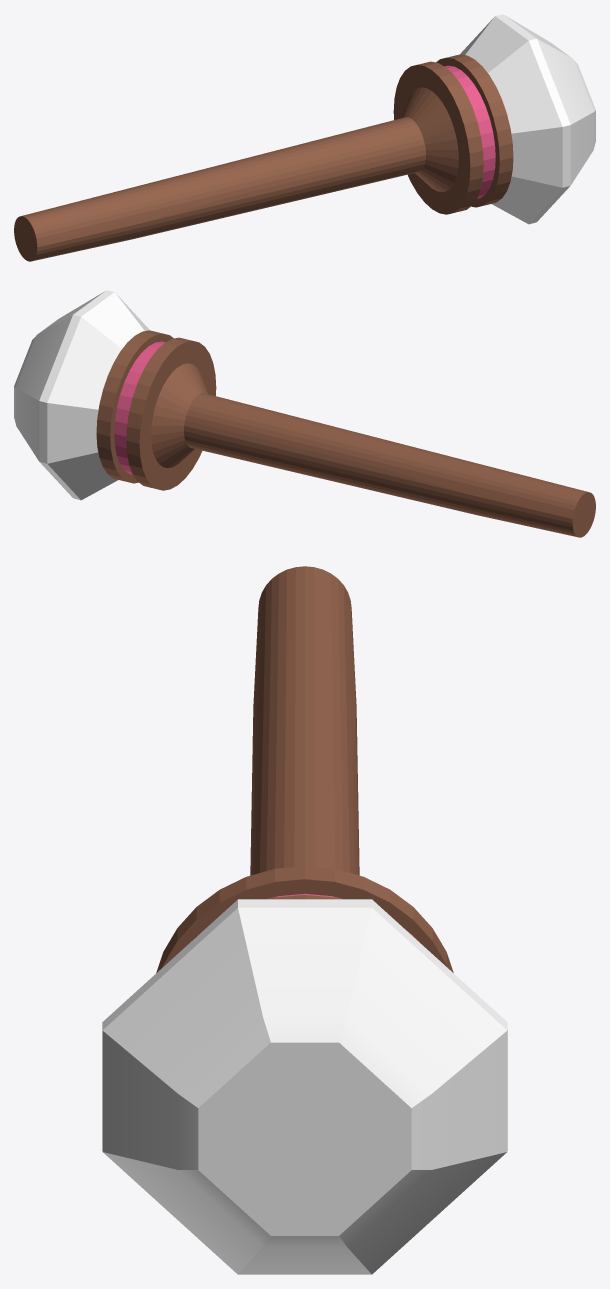
File: Wand.glb
3 views of the same model, one above another, from view 1: azimuth 30°, elevation 25°; view 2: azimuth 150°, elevation 25°; view 3: azimuth 270°, elevation 25° (orthographic). The views are drawn at different scales.
Visible parts, largest first — view 1: Cylinder.003; view 2: Cylinder.003; view 3: Cylinder.003.
Part boxes in pixels (x1,y1,x2,y2): Cylinder.003: (14,14,595,261); Cylinder.003: (14,290,595,537); Cylinder.003: (102,566,507,1274).
Bounding box in the file's own units: 2.32 × 0.7486 × 0.7486.
